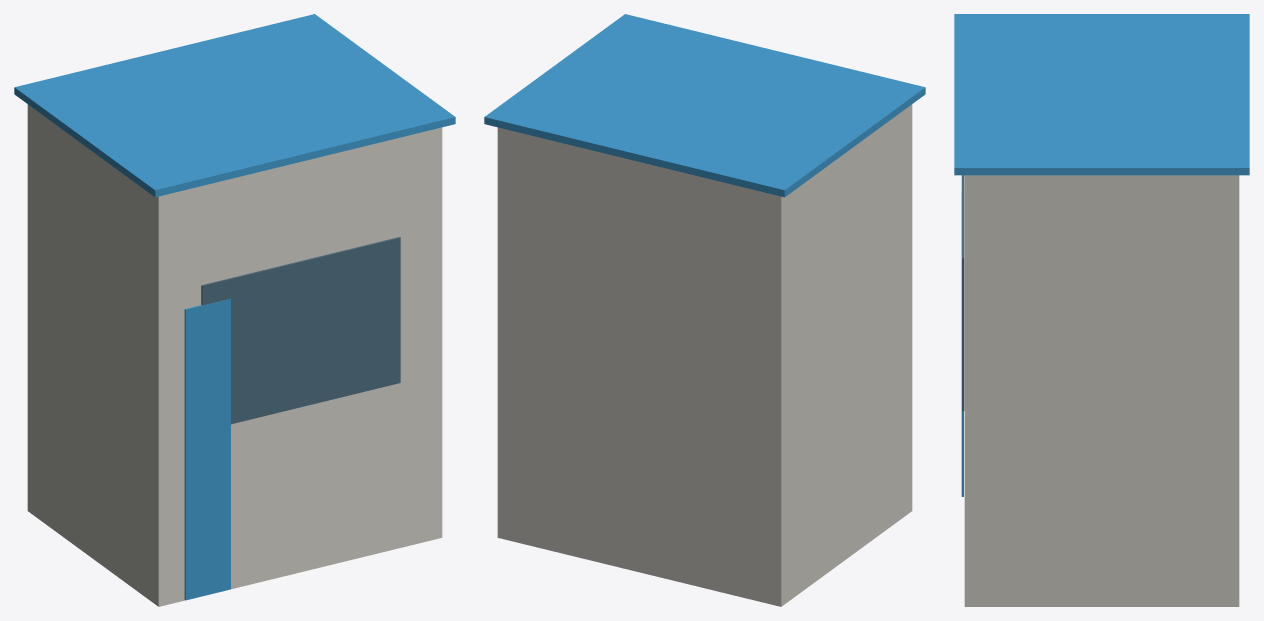
The model's file is stock-car-oval-speedway-suite-tower-c6970220__16935.glb.
3 renders of one model, left to right at view 1: azimuth 30°, elevation 25°; view 2: azimuth 150°, elevation 25°; view 3: azimuth 270°, elevation 25°, orthographic. The views are drawn at different scales.
Visible parts, largest first — view 1: suite-tower; view 2: suite-tower; view 3: suite-tower.
Part boxes in pixels (x1,y1,x2,y2): suite-tower: [14, 14, 455, 606]; suite-tower: [484, 14, 925, 606]; suite-tower: [954, 14, 1249, 606].
Size of the model in its own units: 5.3 by 7.12 by 4.3.
